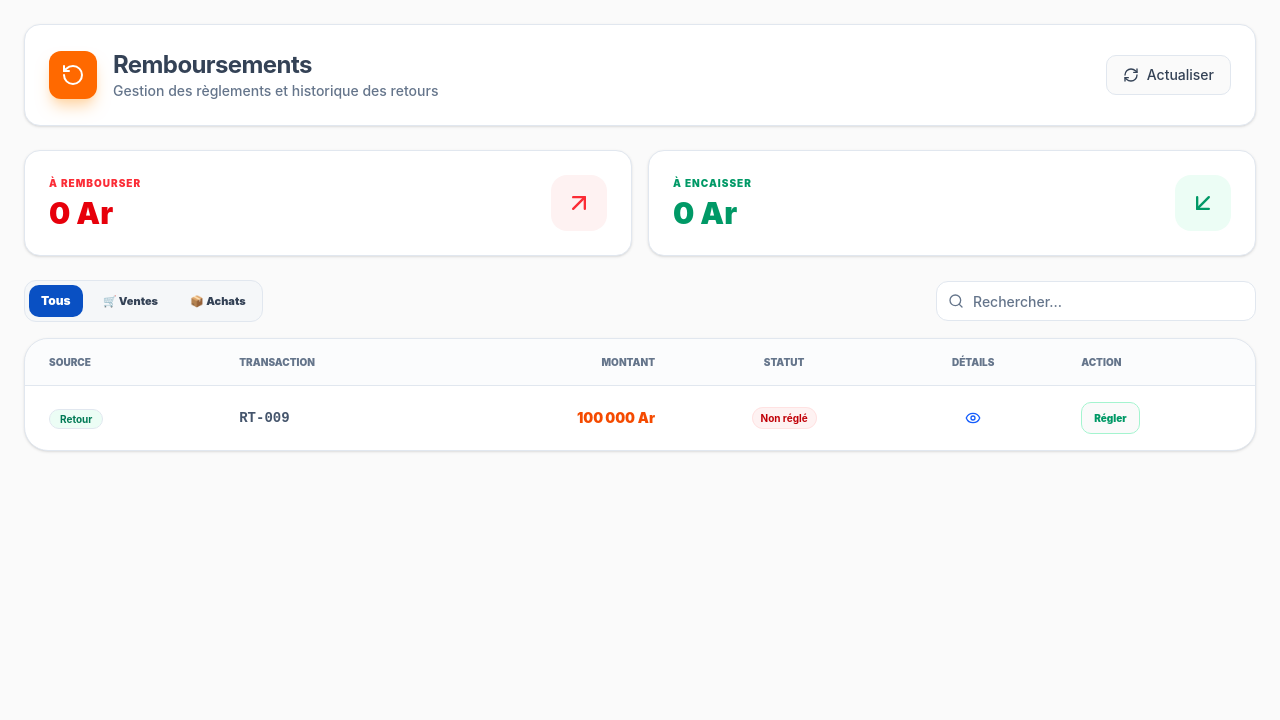
Test: Mission 3 — Remboursements : détail de la transaction source (chargement différé) › source de type « Retour » : aucun appel réseau, détail indisponible
Expected: the text "RT-009" is shown, 215,386 -> 445,450
Click the 5th button at (973, 418), box 957,402 -> 989,434
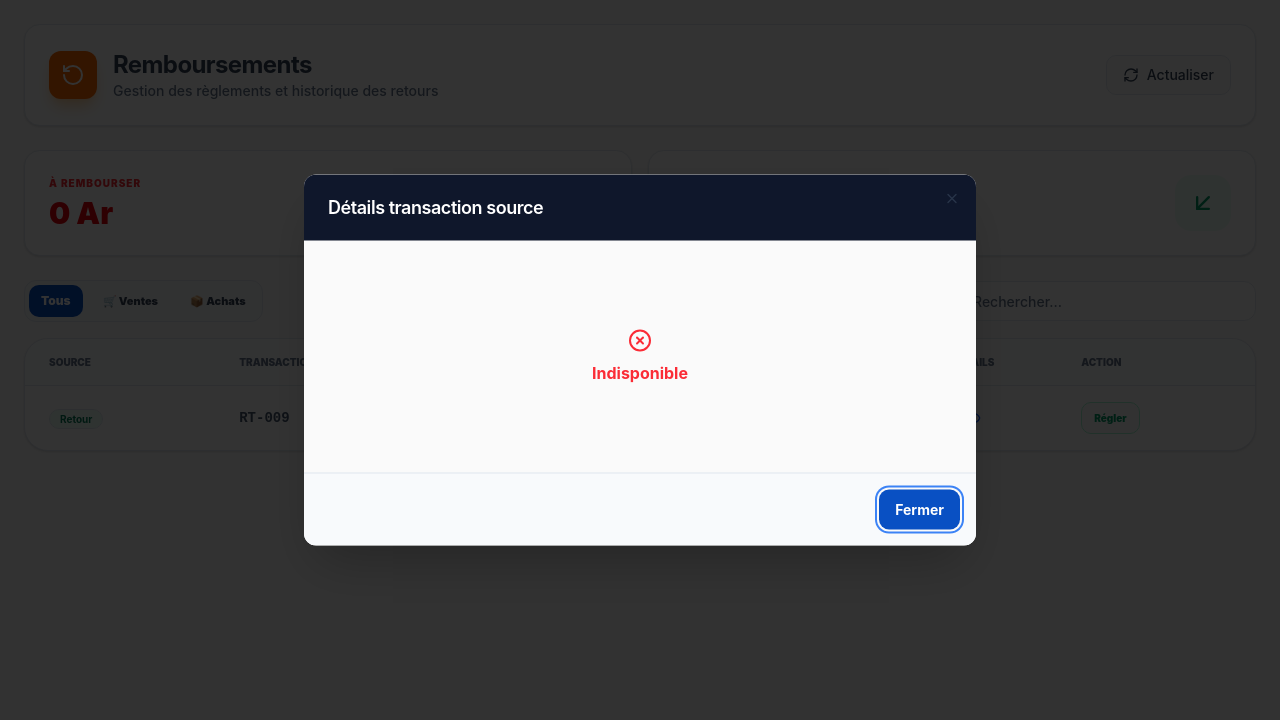
Expected: the text "Indisponible" is shown, 592,328 -> 688,382
